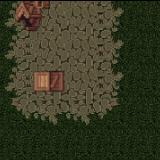Hide: (21, 54, 71, 106)
Obstacle: (0, 0, 62, 38)
